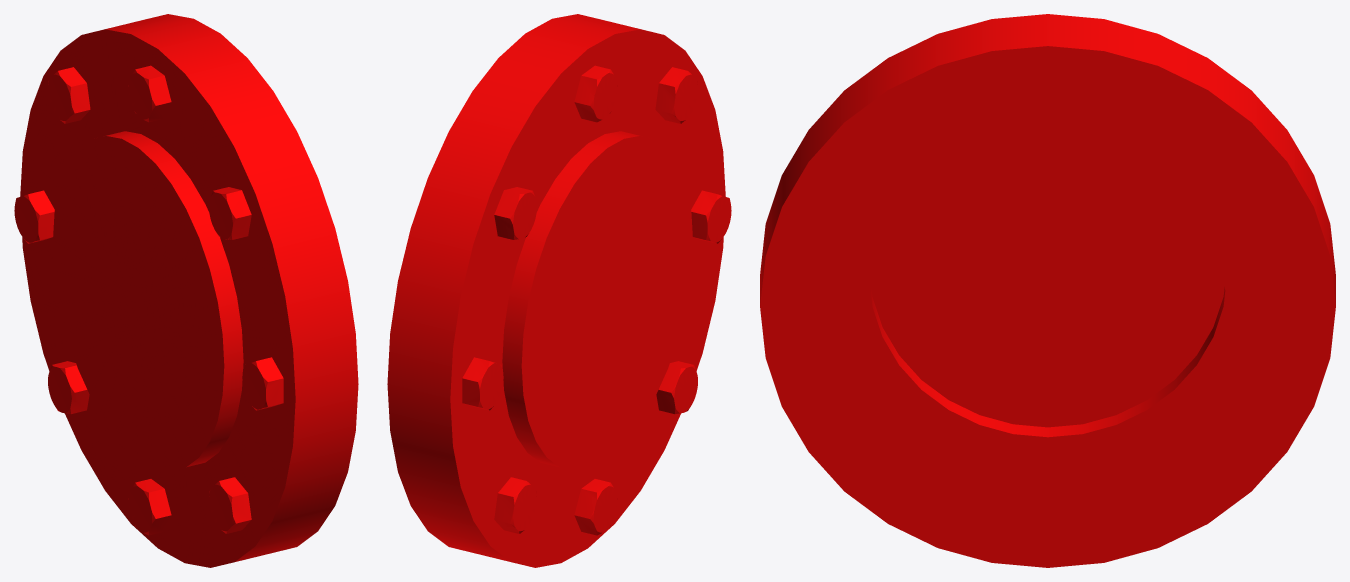
Rendered from Dungeon_Pipe_EndCapBolt.FBX.
3 renders of one model, left to right at view 1: azimuth 30°, elevation 25°; view 2: azimuth 150°, elevation 25°; view 3: azimuth 270°, elevation 25°, orthographic. The views are drawn at different scales.
Visible parts, largest first — view 1: EndCapBolt; view 2: EndCapBolt; view 3: EndCapBolt.
Boxes of the visible parts, x1,y1,x2,y2 form: EndCapBolt: [14, 14, 358, 567]; EndCapBolt: [387, 14, 731, 567]; EndCapBolt: [760, 14, 1335, 567].
Size of the model in its own units: 4.16 by 24.16 by 24.16.
